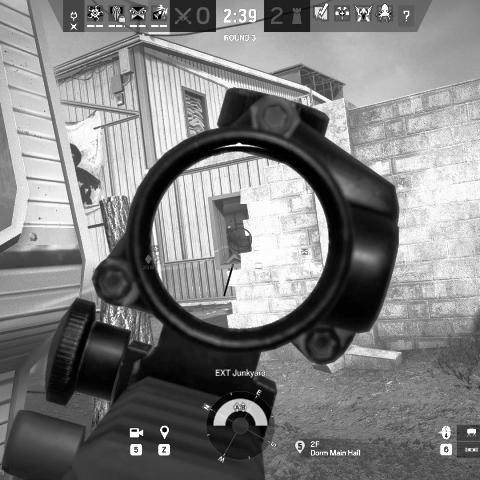Character: (226, 225, 237, 258)
Friend_label: (295, 248, 313, 264), (146, 244, 164, 260)
Head: (227, 225, 232, 232)
